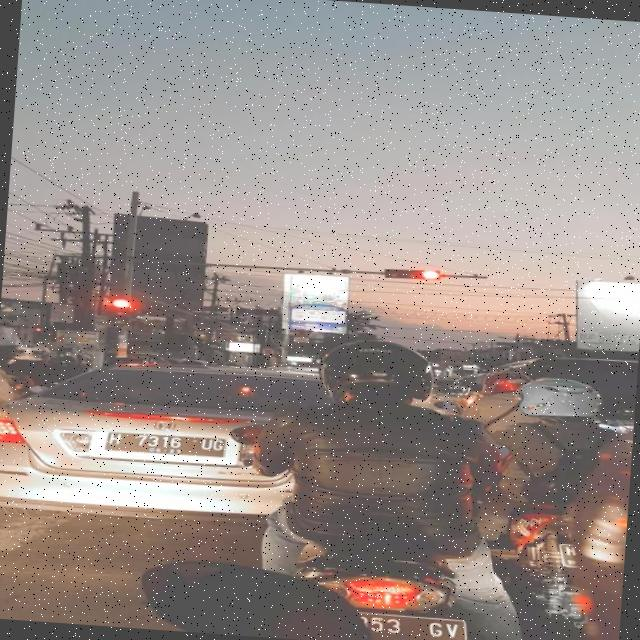Czerwone swiatlo: (380, 265, 446, 284), (108, 296, 131, 328)
